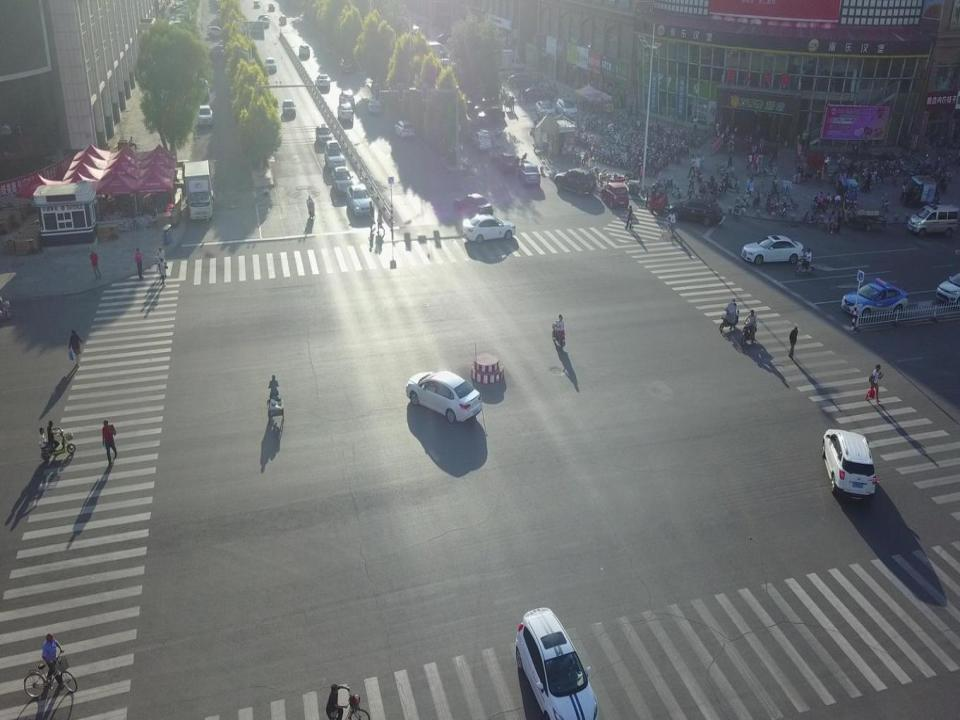car: (516, 607, 599, 720), (406, 370, 482, 423), (822, 428, 876, 501), (840, 277, 908, 320), (740, 234, 804, 266), (462, 214, 516, 243), (669, 198, 723, 226), (554, 167, 596, 196), (454, 193, 494, 219), (935, 272, 960, 310), (346, 184, 375, 216), (600, 183, 629, 209), (331, 166, 354, 194), (324, 140, 345, 170), (476, 106, 505, 126), (517, 163, 540, 187), (471, 131, 492, 152), (534, 99, 555, 120), (497, 153, 516, 175), (395, 120, 415, 140), (197, 105, 214, 127), (315, 124, 332, 145), (338, 102, 354, 122), (338, 91, 355, 106), (283, 99, 296, 118), (206, 26, 225, 38), (316, 74, 330, 90), (339, 58, 353, 74), (368, 98, 381, 114), (264, 57, 277, 72), (298, 44, 310, 57), (279, 15, 287, 25), (268, 3, 276, 12), (253, 0, 260, 9)
truck: (182, 160, 214, 222), (260, 14, 270, 29)
van: (906, 203, 960, 238)
